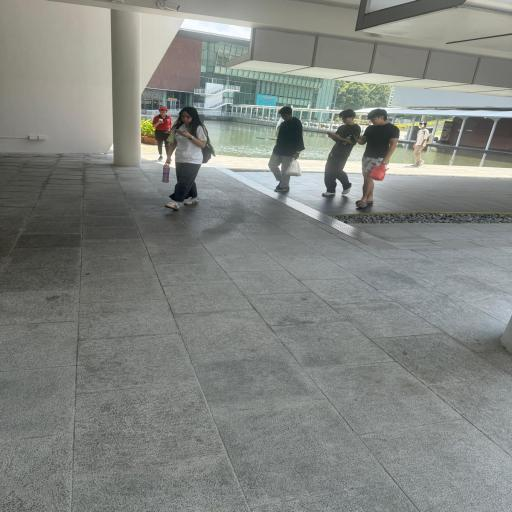person_left: (164, 106, 216, 211), (352, 108, 400, 208), (320, 109, 362, 197), (267, 106, 306, 193), (411, 122, 431, 166)
person_with_luggage_right: (352, 108, 400, 208), (268, 106, 306, 192)
